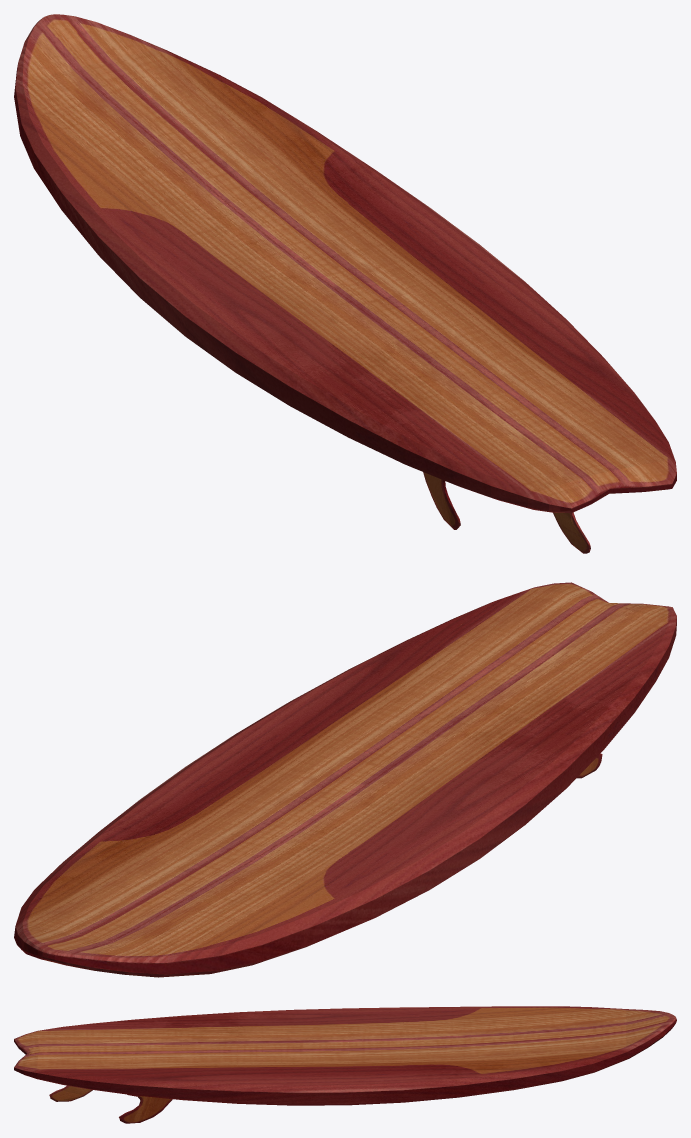
Rendered from ETC0610042.fbx.
3 renders of one model, top to bottom at view 1: azimuth 30°, elevation 25°; view 2: azimuth 150°, elevation 25°; view 3: azimuth 270°, elevation 25°, orthographic. The views are drawn at different scales.
Parts seen in each view (by area): view 1: smETC0610042; view 2: smETC0610042; view 3: smETC0610042.
Part boxes in pixels (x1,y1,x2,y2): smETC0610042: (14, 14, 676, 553); smETC0610042: (14, 582, 676, 977); smETC0610042: (14, 1006, 676, 1123).
Bounding box in the file's own units: 92.99 × 45.19 × 314.
Materials: 1 (1 with a texture image).
